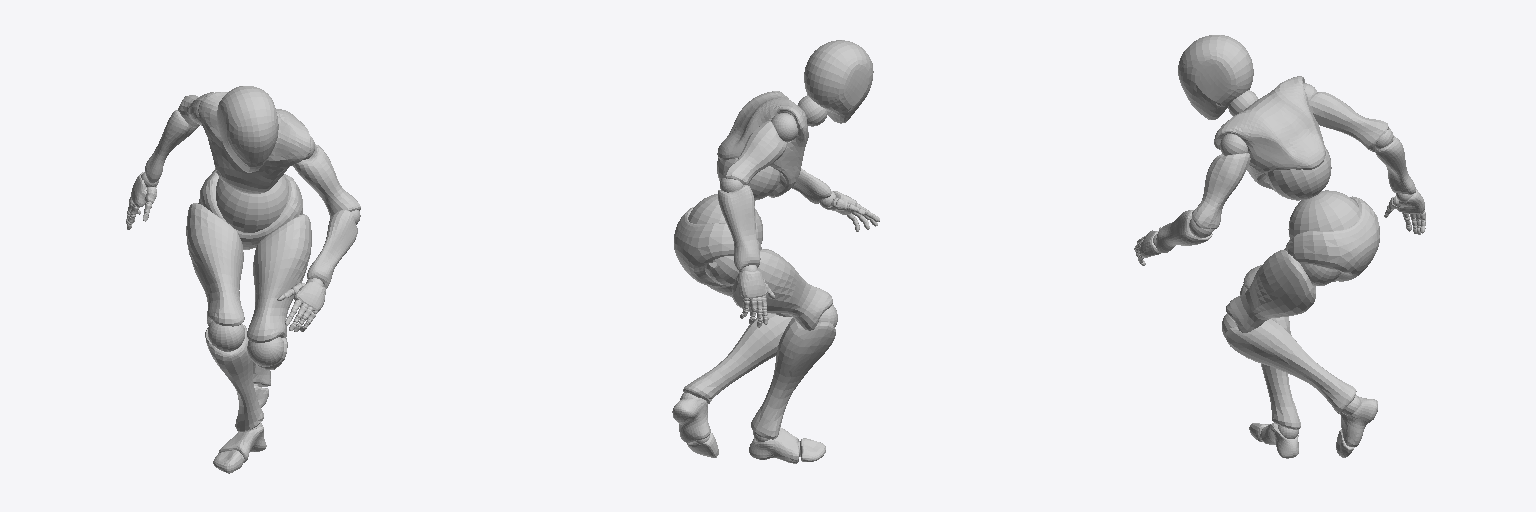
The picture shows the model from 3 angles: view 1: azimuth 30°, elevation 25°; view 2: azimuth 150°, elevation 25°; view 3: azimuth 270°, elevation 25°; orthographic projection.
Parts seen in each view (by area): view 1: Beta_Surface, Beta_Joints; view 2: Beta_Surface, Beta_Joints; view 3: Beta_Surface, Beta_Joints.
Boxes of the visible parts, box(x1,y1,x2,y2) form: Beta_Surface: box(126, 86, 360, 473); Beta_Joints: box(126, 106, 360, 462); Beta_Surface: box(672, 40, 879, 463); Beta_Joints: box(680, 95, 875, 456); Beta_Surface: box(1134, 35, 1425, 458); Beta_Joints: box(1135, 83, 1425, 441).
Size of the model in its own units: 0.4859 by 1.42 by 0.9398.